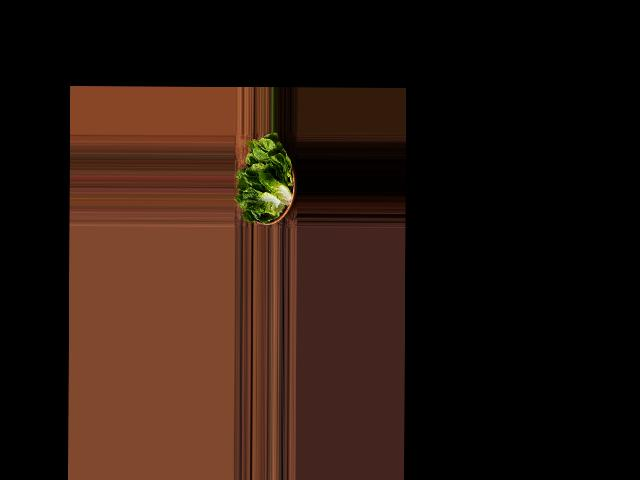lettuce: (237, 133, 296, 228)
